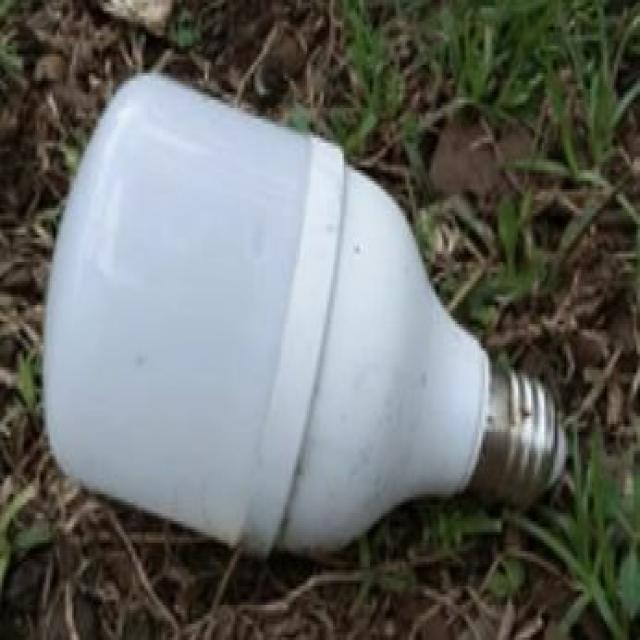electronic: (41, 68, 568, 562)
